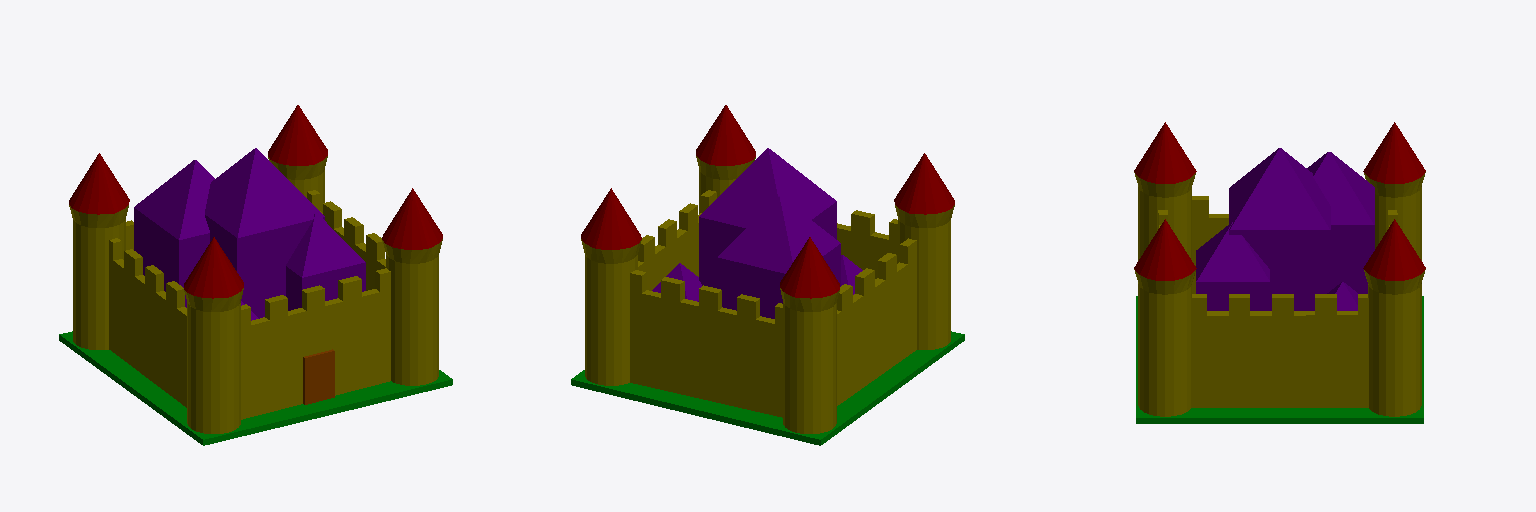
Rendered from CastleForSubstance.obj.
3 renders of one model, left to right at view 1: azimuth 30°, elevation 25°; view 2: azimuth 150°, elevation 25°; view 3: azimuth 270°, elevation 25°, orthographic.
Visible parts, largest first — view 1: polySurface16; view 2: polySurface16; view 3: polySurface16.
Boxes of the visible parts, box(x1,y1,x2,y2) form: polySurface16: box(59, 105, 452, 445); polySurface16: box(571, 105, 964, 445); polySurface16: box(1134, 122, 1425, 423).
Size of the model in its own units: 10.18 by 8.24 by 10.19.